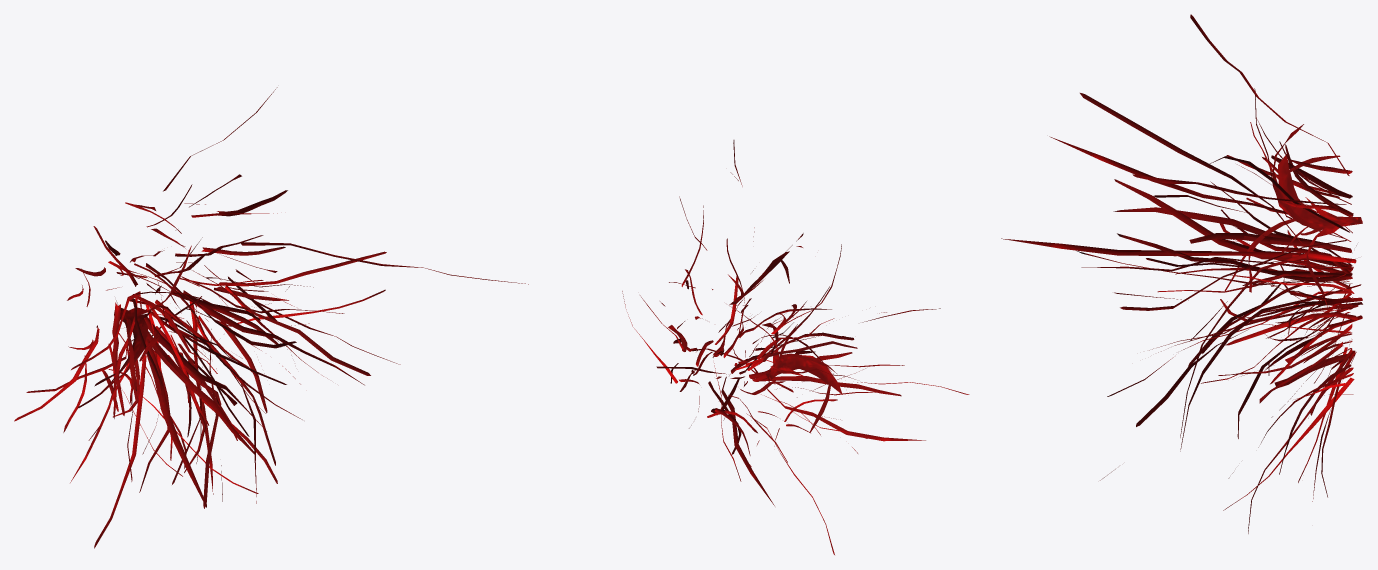
Rendered from TundraGrass_LOD0_Var2.gltf.
3 renders of one model, left to right at view 1: azimuth 30°, elevation 25°; view 2: azimuth 150°, elevation 25°; view 3: azimuth 270°, elevation 25°, orthographic. The views are drawn at different scales.
Visible parts, largest first — view 1: lods_0; view 2: lods_0; view 3: lods_0.
Boxes of the visible parts, bbox=[...] form: lods_0: bbox=[14, 87, 528, 548]; lods_0: bbox=[622, 140, 969, 554]; lods_0: bbox=[1001, 14, 1362, 533].
Bounding box in the file's own units: 0.8297 × 0.8574 × 0.4718.
1 material, 1 textured.
